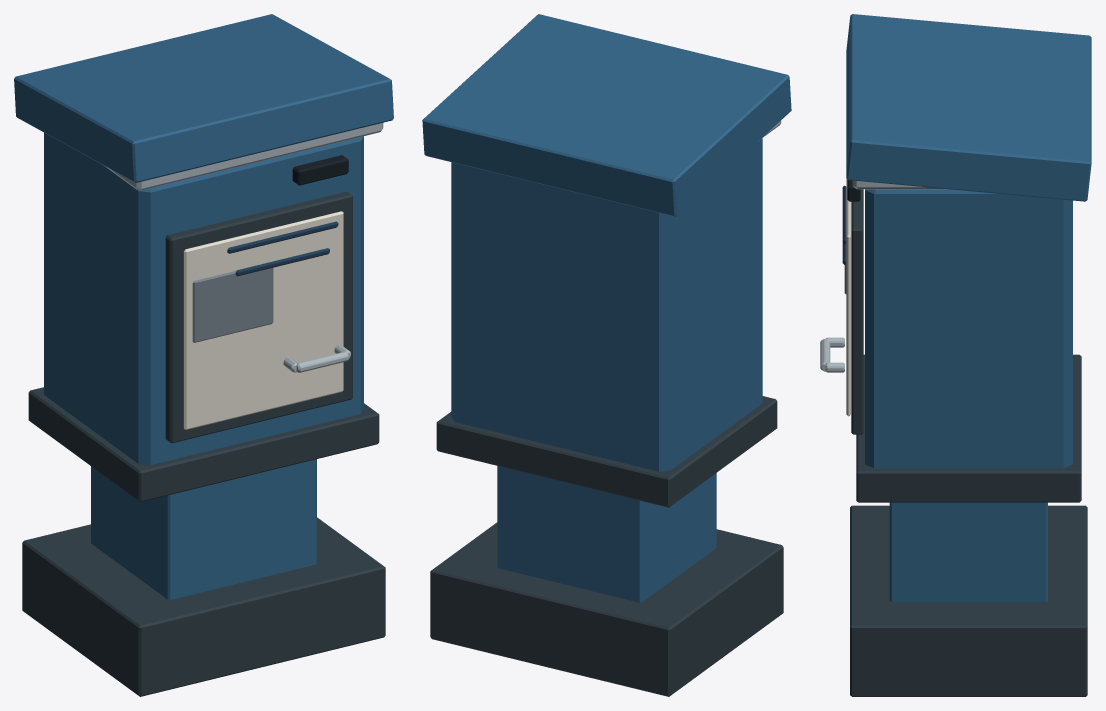
Rendered from b10_paid_newspaper_honor_box.glb.
The picture shows the model from 3 angles, left to right: view 1: azimuth 30°, elevation 25°; view 2: azimuth 150°, elevation 25°; view 3: azimuth 270°, elevation 25°; orthographic projection. The views are drawn at different scales.
Parts seen in each view (by area): view 1: b10_paid_newspaper_honor_box; view 2: b10_paid_newspaper_honor_box; view 3: b10_paid_newspaper_honor_box.
Part boxes in pixels (x1,y1,x2,y2): b10_paid_newspaper_honor_box: (14, 14, 393, 696); b10_paid_newspaper_honor_box: (422, 14, 791, 696); b10_paid_newspaper_honor_box: (820, 14, 1091, 696).
Size of the model in its own units: 0.61 by 1.25 by 0.5479.
